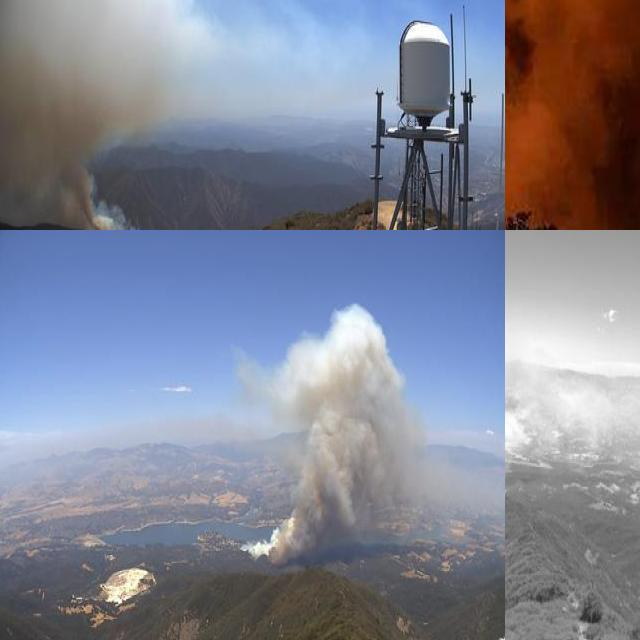smoke: (233, 302, 432, 564), (0, 0, 192, 230), (505, 0, 640, 230), (505, 356, 640, 490)
